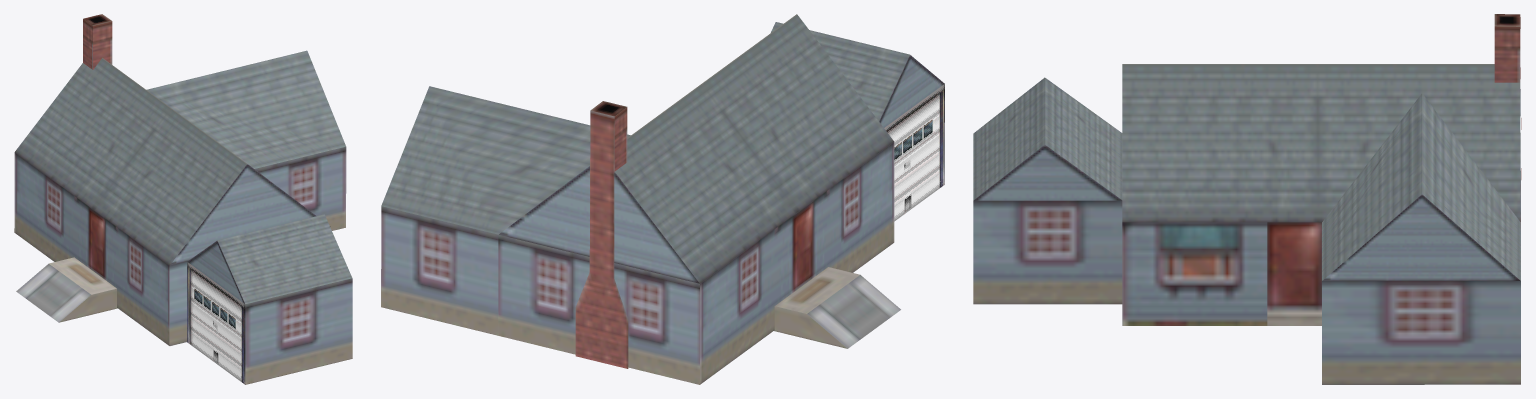
File: house02.glb
The picture shows the model from 3 angles, left to right: view 1: azimuth 30°, elevation 25°; view 2: azimuth 150°, elevation 25°; view 3: azimuth 270°, elevation 25°; orthographic projection. The views are drawn at different scales.
Visible parts, largest first — view 1: house02; view 2: house02; view 3: house02.
Part boxes in pixels (bbox=[...]): house02: bbox=[14, 14, 352, 384]; house02: bbox=[381, 14, 944, 384]; house02: bbox=[973, 14, 1521, 384].
Size of the model in its own units: 1979 by 1203 by 2340.
3 materials, 3 textured.
